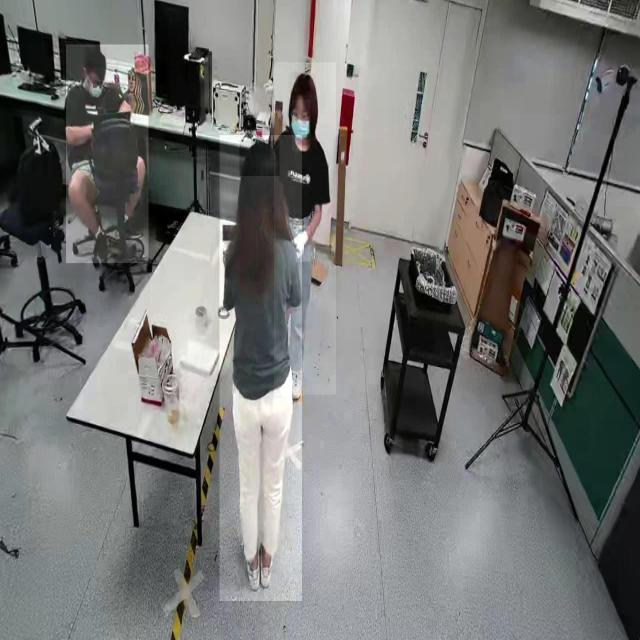face_mask: (292, 100, 310, 151), (85, 72, 104, 100)
hand_glove: (295, 226, 311, 262)
head_nohelmet: (240, 140, 280, 177), (290, 72, 316, 96), (84, 47, 108, 69)
person: (220, 135, 302, 602), (274, 62, 336, 396), (66, 44, 149, 264)
shoes: (114, 210, 146, 242), (244, 532, 260, 593), (92, 221, 112, 265), (288, 354, 302, 401), (261, 538, 273, 592)
